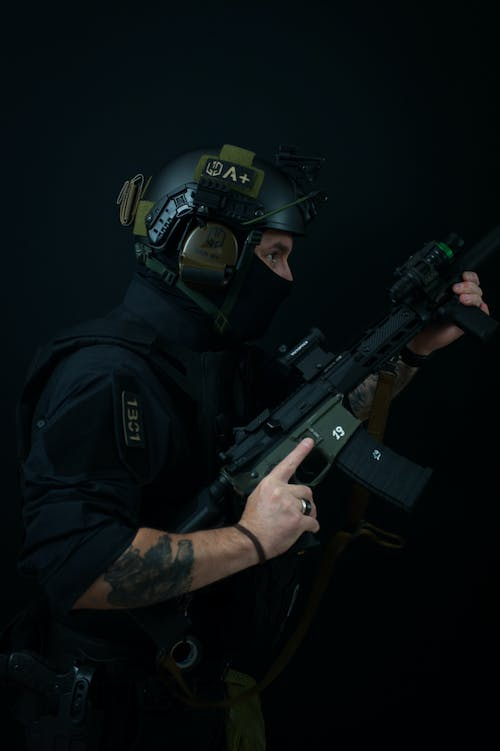gun: (160, 222, 500, 535)
